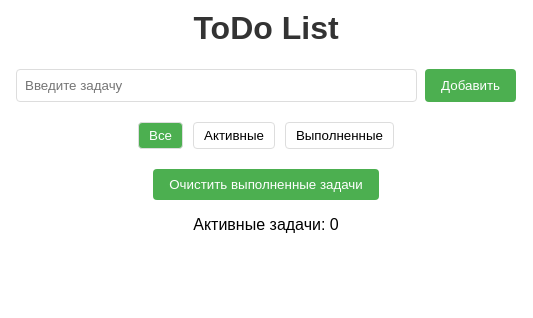
it: ToDo App › Добавление новой задачи
Step 1. Type "Новая задача" into the field with placeholder "Введите задачу" → {"x": 217, "y": 85}, box [16,69,417,102]
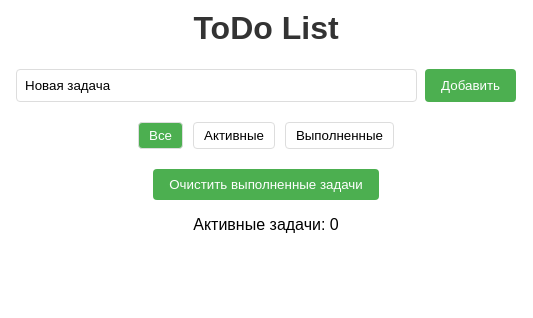
Step 2. Click the button "Добавить" → {"x": 471, "y": 85}, box [425,69,516,102]
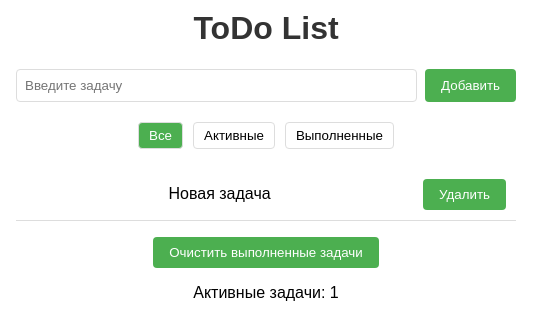
expect the text "Новая задача" is shown: met, box [168,185,271,202]
